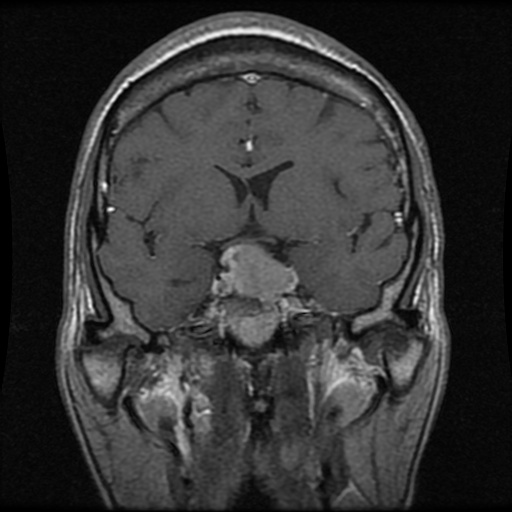pituitary: (227, 247, 295, 302)
